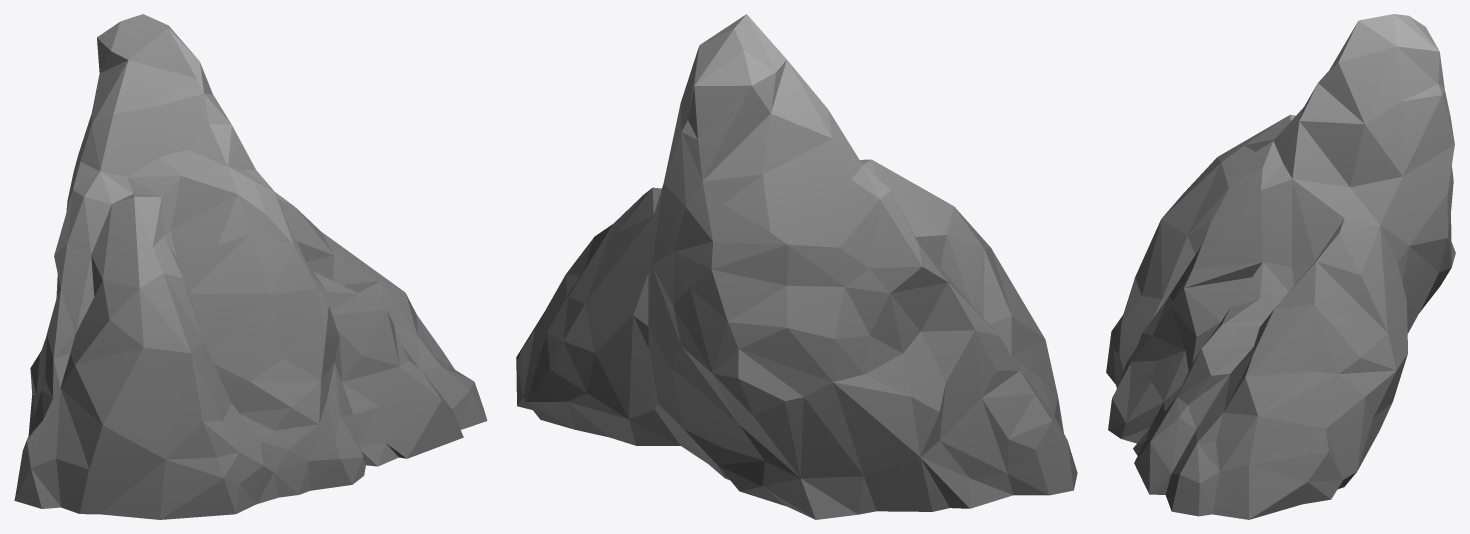
The model's file is stone-large-3.glb.
The picture shows the model from 3 angles, left to right: view 1: azimuth 30°, elevation 25°; view 2: azimuth 150°, elevation 25°; view 3: azimuth 270°, elevation 25°; orthographic projection. The views are drawn at different scales.
Parts seen in each view (by area): view 1: stone_large_3; view 2: stone_large_3; view 3: stone_large_3.
Boxes of the visible parts, <box> form: stone_large_3: <box>14,14,487,519</box>; stone_large_3: <box>516,14,1077,519</box>; stone_large_3: <box>1106,14,1455,519</box>.
Bounding box in the file's own units: 13.29 × 10.72 × 8.86.
1 material, 1 textured.
